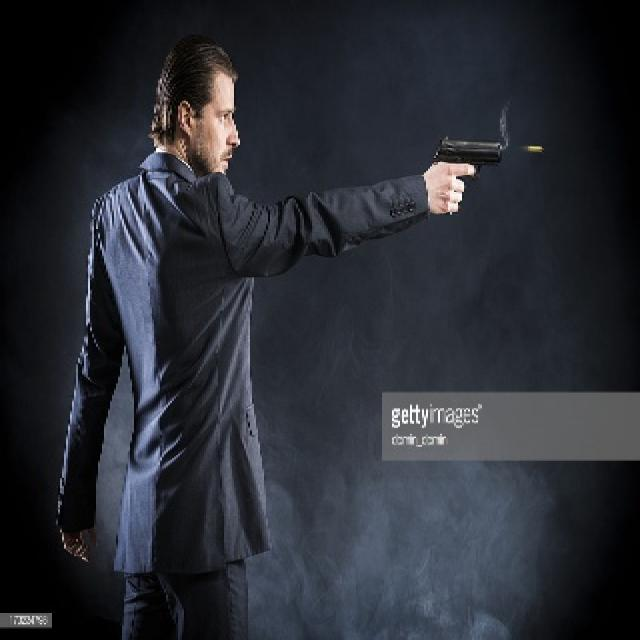weapon: (430, 132, 508, 171)
